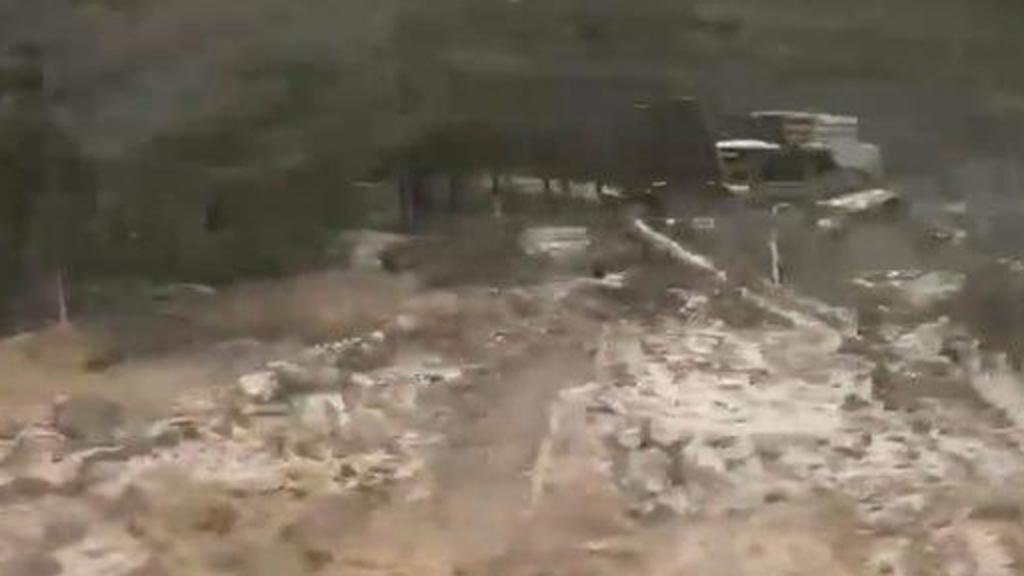MLRS: (680, 98, 892, 210)
